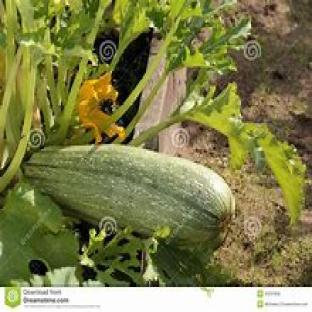Zucchini: (26, 144, 234, 247)
